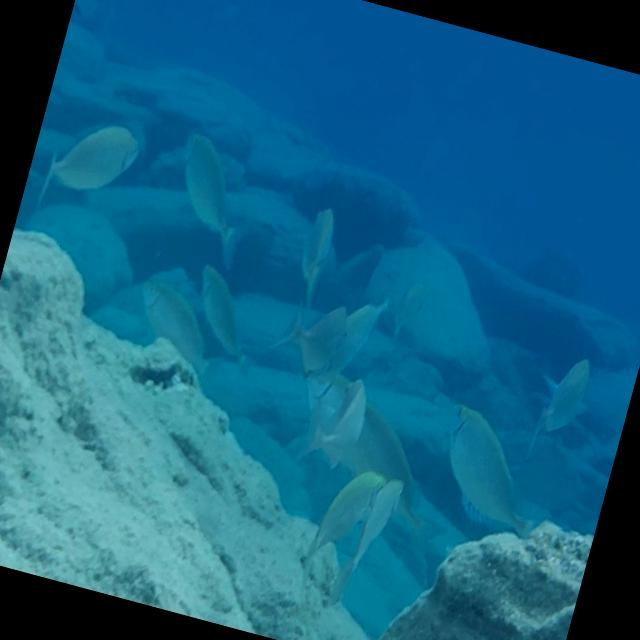Sokar Baligi: (408, 386, 572, 580), (26, 99, 156, 243), (518, 341, 617, 470)
